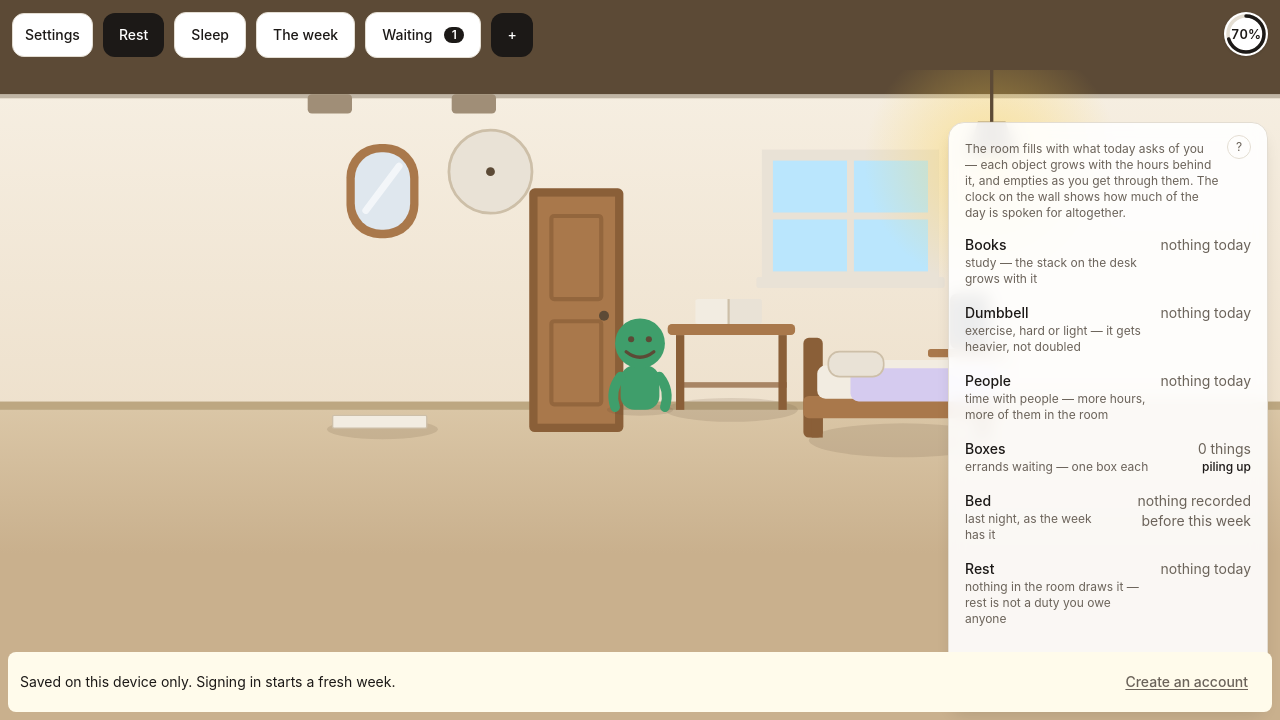
it: RoomShell with the room › offers a real picker rather than a Move that only defers
Click the button with test id "open-week" at (306, 35), box [256,12,355,58]
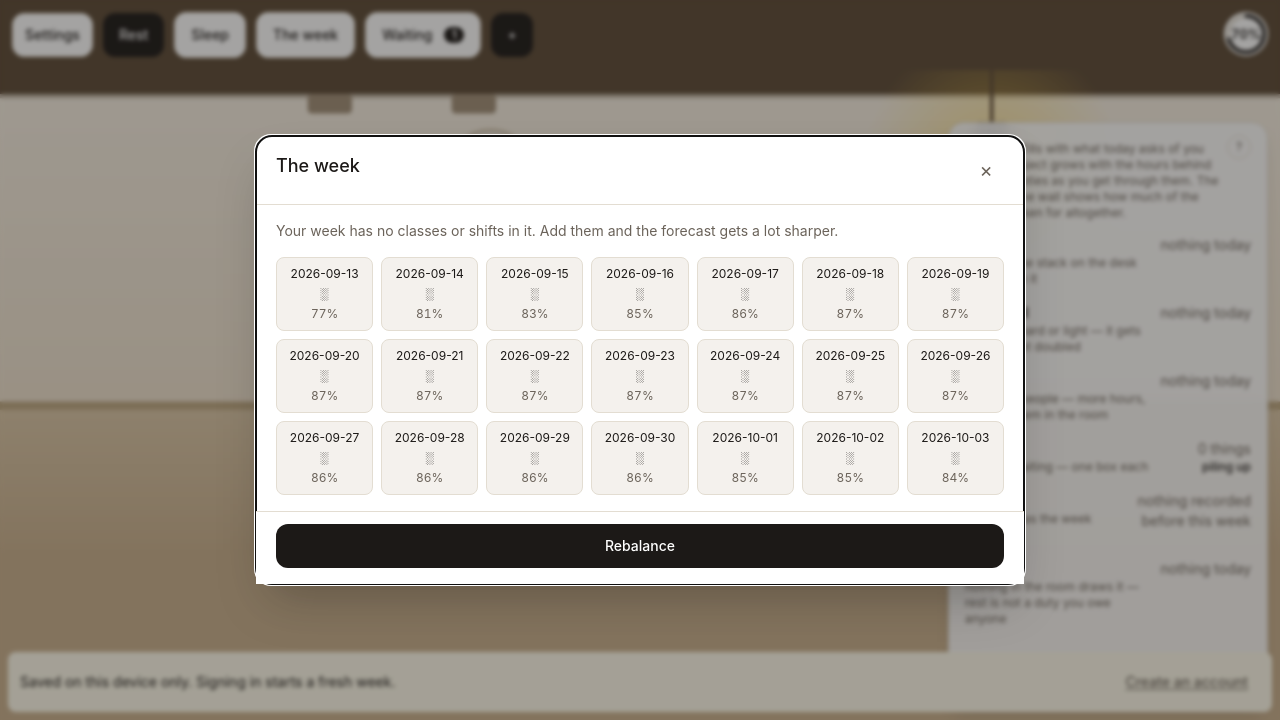
Click the button with test id "day-2" at (535, 294), box [486,257,583,331]
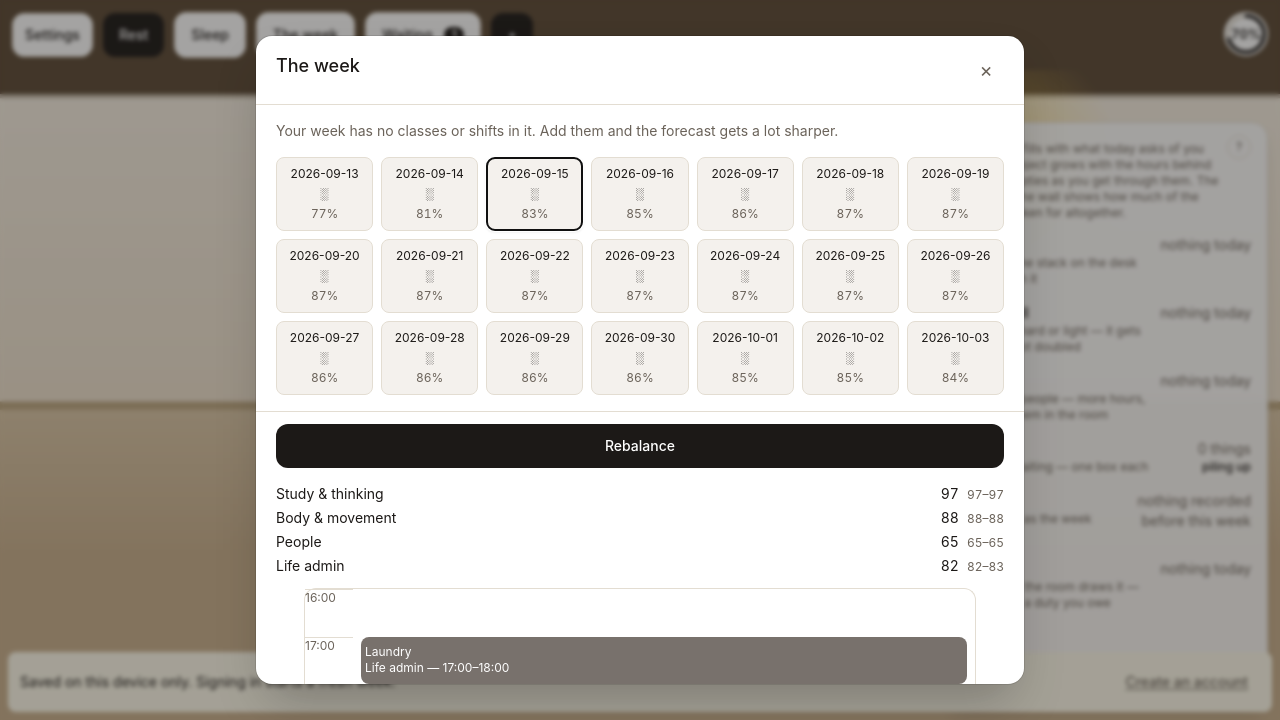
Click the button with test id "block-laundry" at (388, 652), box [361,637,967,684]
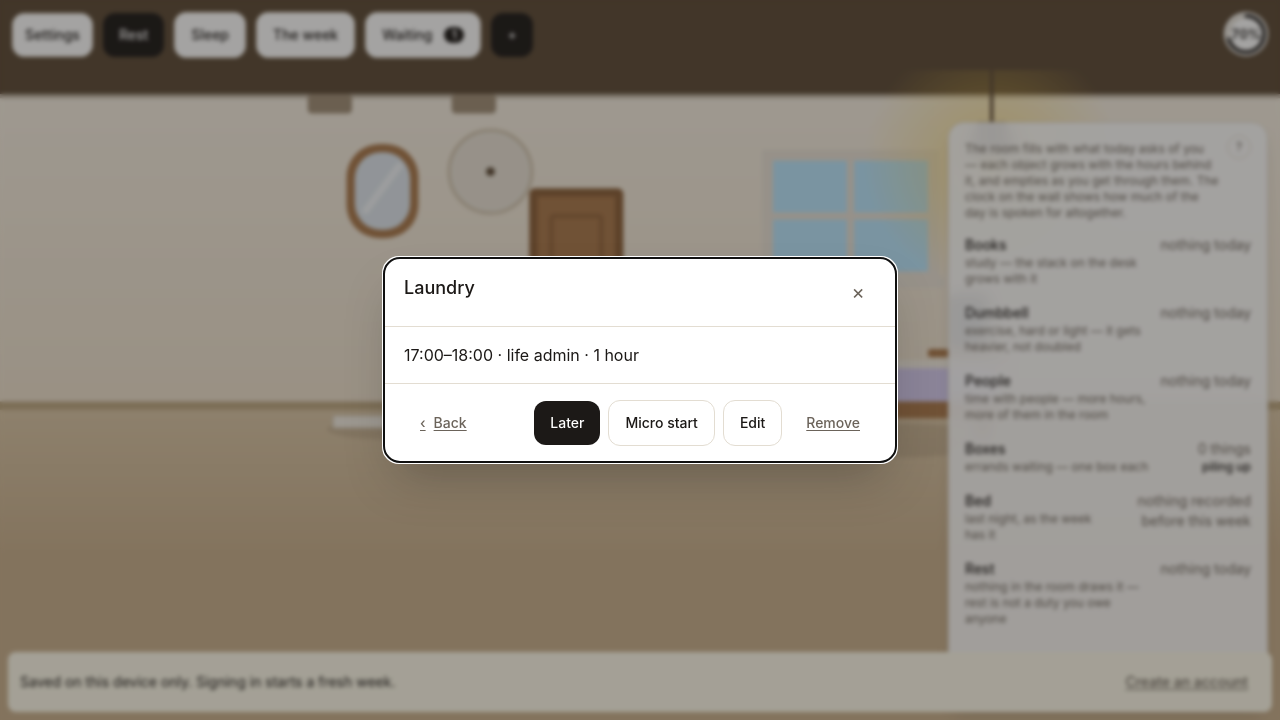
Expected: the button "Edit" is shown, [723,400,782,446]
Expected: the button "Later" is shown, [534,401,600,445]
